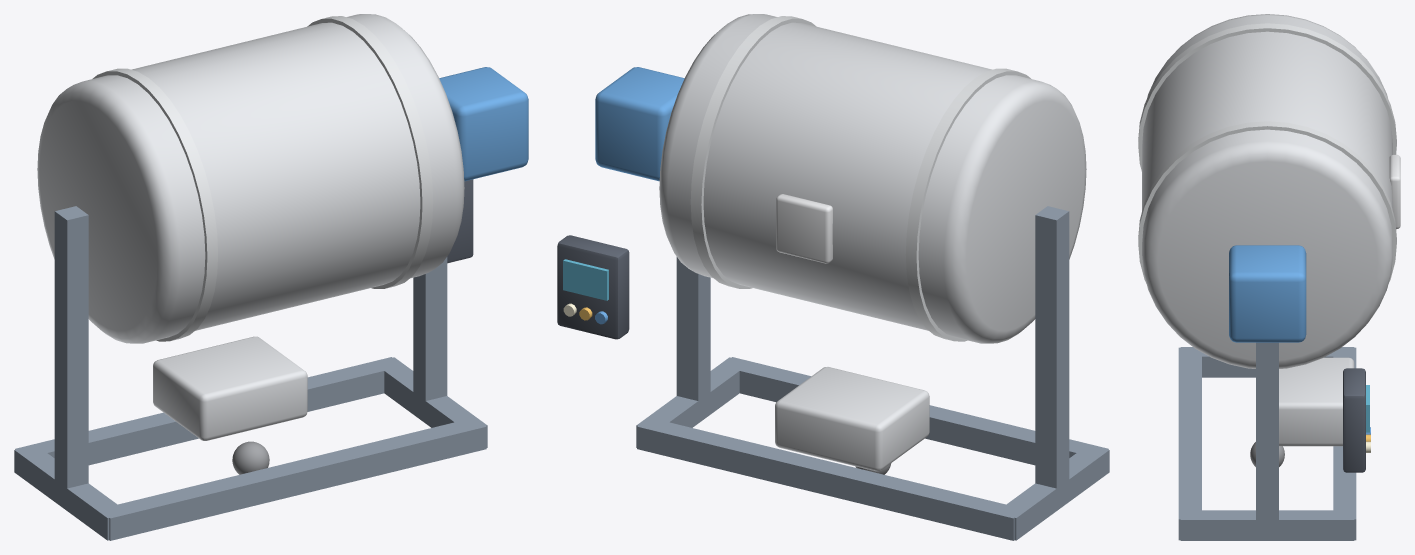
File: Maslnica.fbx
3 views of the same model, side by side, from view 1: azimuth 30°, elevation 25°; view 2: azimuth 150°, elevation 25°; view 3: azimuth 270°, elevation 25° (orthographic). The views are drawn at different scales.
Visible parts, largest first — view 1: Maszyna_Maslnica_Beczka_ObrotX, Maszyna_Maslnica_Korpus, Maszyna_Maslnica_Lampka; view 2: Maszyna_Maslnica_Beczka_ObrotX, Maszyna_Maslnica_Korpus; view 3: Maszyna_Maslnica_Beczka_ObrotX, Maszyna_Maslnica_Korpus.
Boxes of the visible parts, box(x1,y1,x2,y2) form: Maszyna_Maslnica_Beczka_ObrotX: box(37, 14, 464, 343); Maszyna_Maslnica_Korpus: box(14, 67, 528, 540); Maszyna_Maslnica_Lampka: box(232, 441, 269, 474); Maszyna_Maslnica_Beczka_ObrotX: box(659, 14, 1086, 343); Maszyna_Maslnica_Korpus: box(557, 67, 1109, 540); Maszyna_Maslnica_Beczka_ObrotX: box(1138, 14, 1400, 368); Maszyna_Maslnica_Korpus: box(1178, 245, 1370, 540).
Size of the model in its own units: 2.53 by 2.33 by 1.36.
